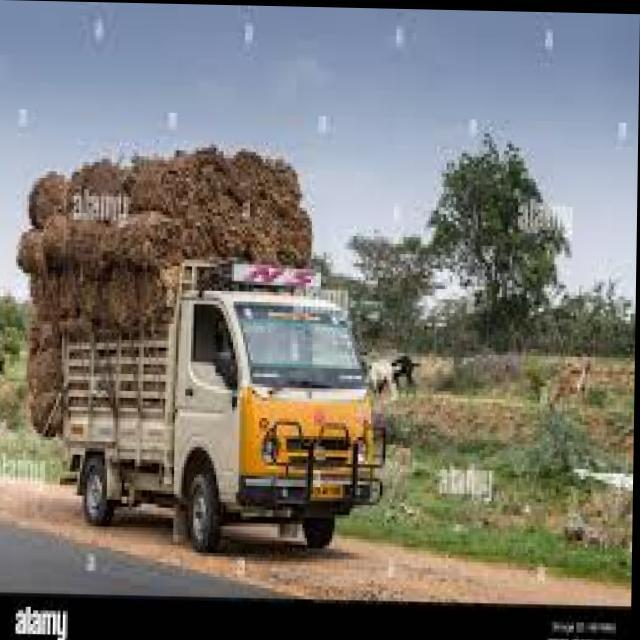uncovered: (21, 145, 385, 552)
